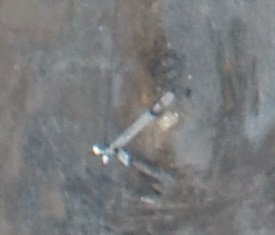opora: (89, 90, 178, 167)
